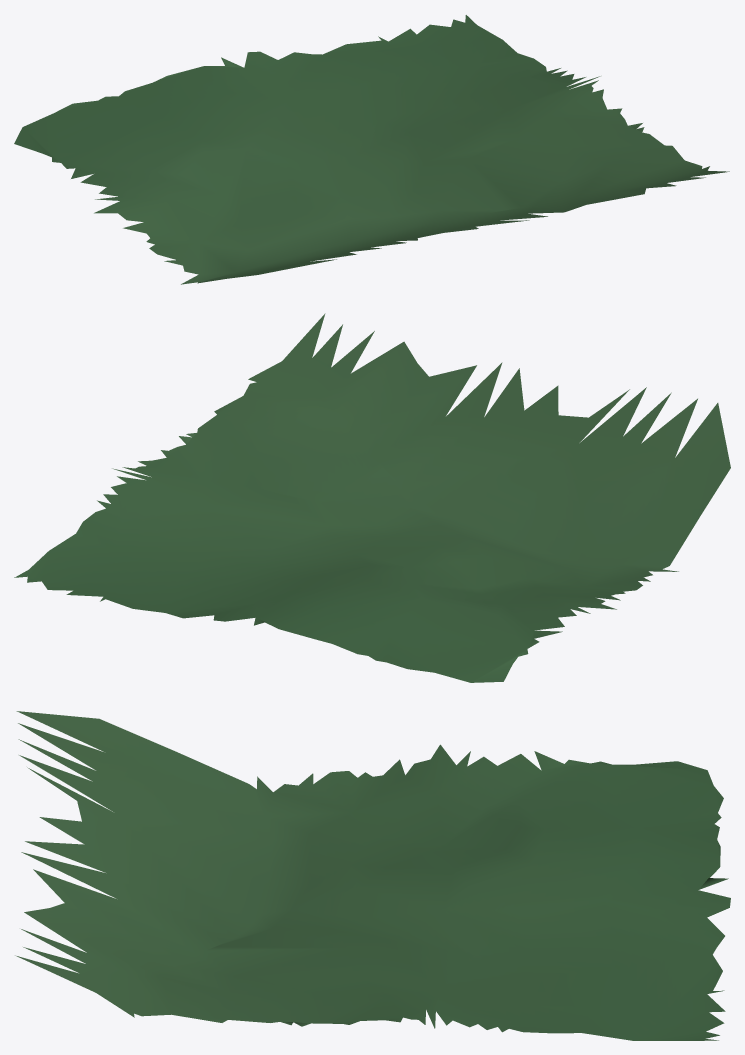
File: payo_land_xm1_y9_lod2.glb
3 renders of one model, top to bottom at view 1: azimuth 30°, elevation 25°; view 2: azimuth 150°, elevation 25°; view 3: azimuth 270°, elevation 25°, orthographic. The views are drawn at different scales.
Parts seen in each view (by area): view 1: payo_land_xm1_y9; view 2: payo_land_xm1_y9; view 3: payo_land_xm1_y9.
Boxes of the visible parts, x1=… form: payo_land_xm1_y9: x1=14, y1=15, x2=729, y2=284; payo_land_xm1_y9: x1=14, y1=313, x2=730, y2=682; payo_land_xm1_y9: x1=15, y1=711, x2=730, y2=1040.
Bounding box in the file's own units: 282 × 47.43 × 280.
